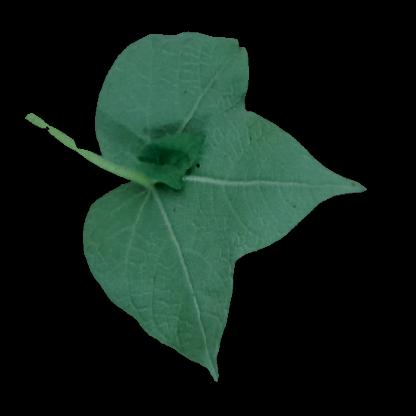curl_stage2: (144, 223, 214, 327), (129, 38, 239, 104), (234, 123, 298, 225)
leaf_enation: (120, 116, 226, 229)
